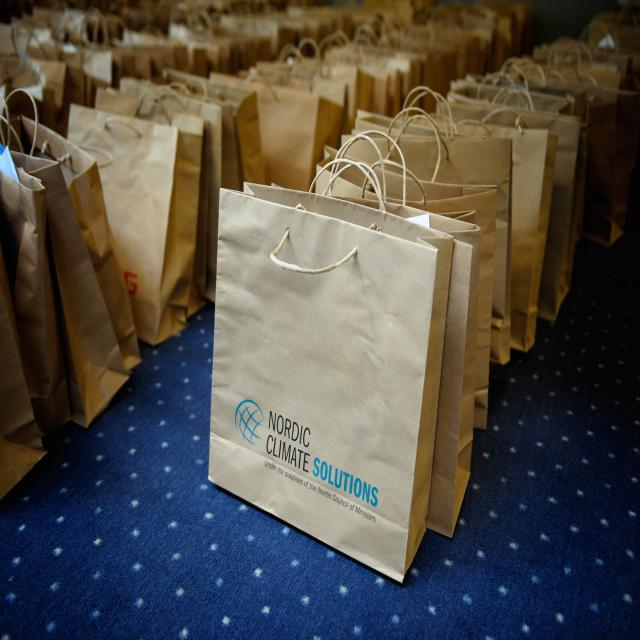PaperCardboard: (0, 0, 538, 485), (309, 0, 639, 530), (208, 176, 447, 579)
